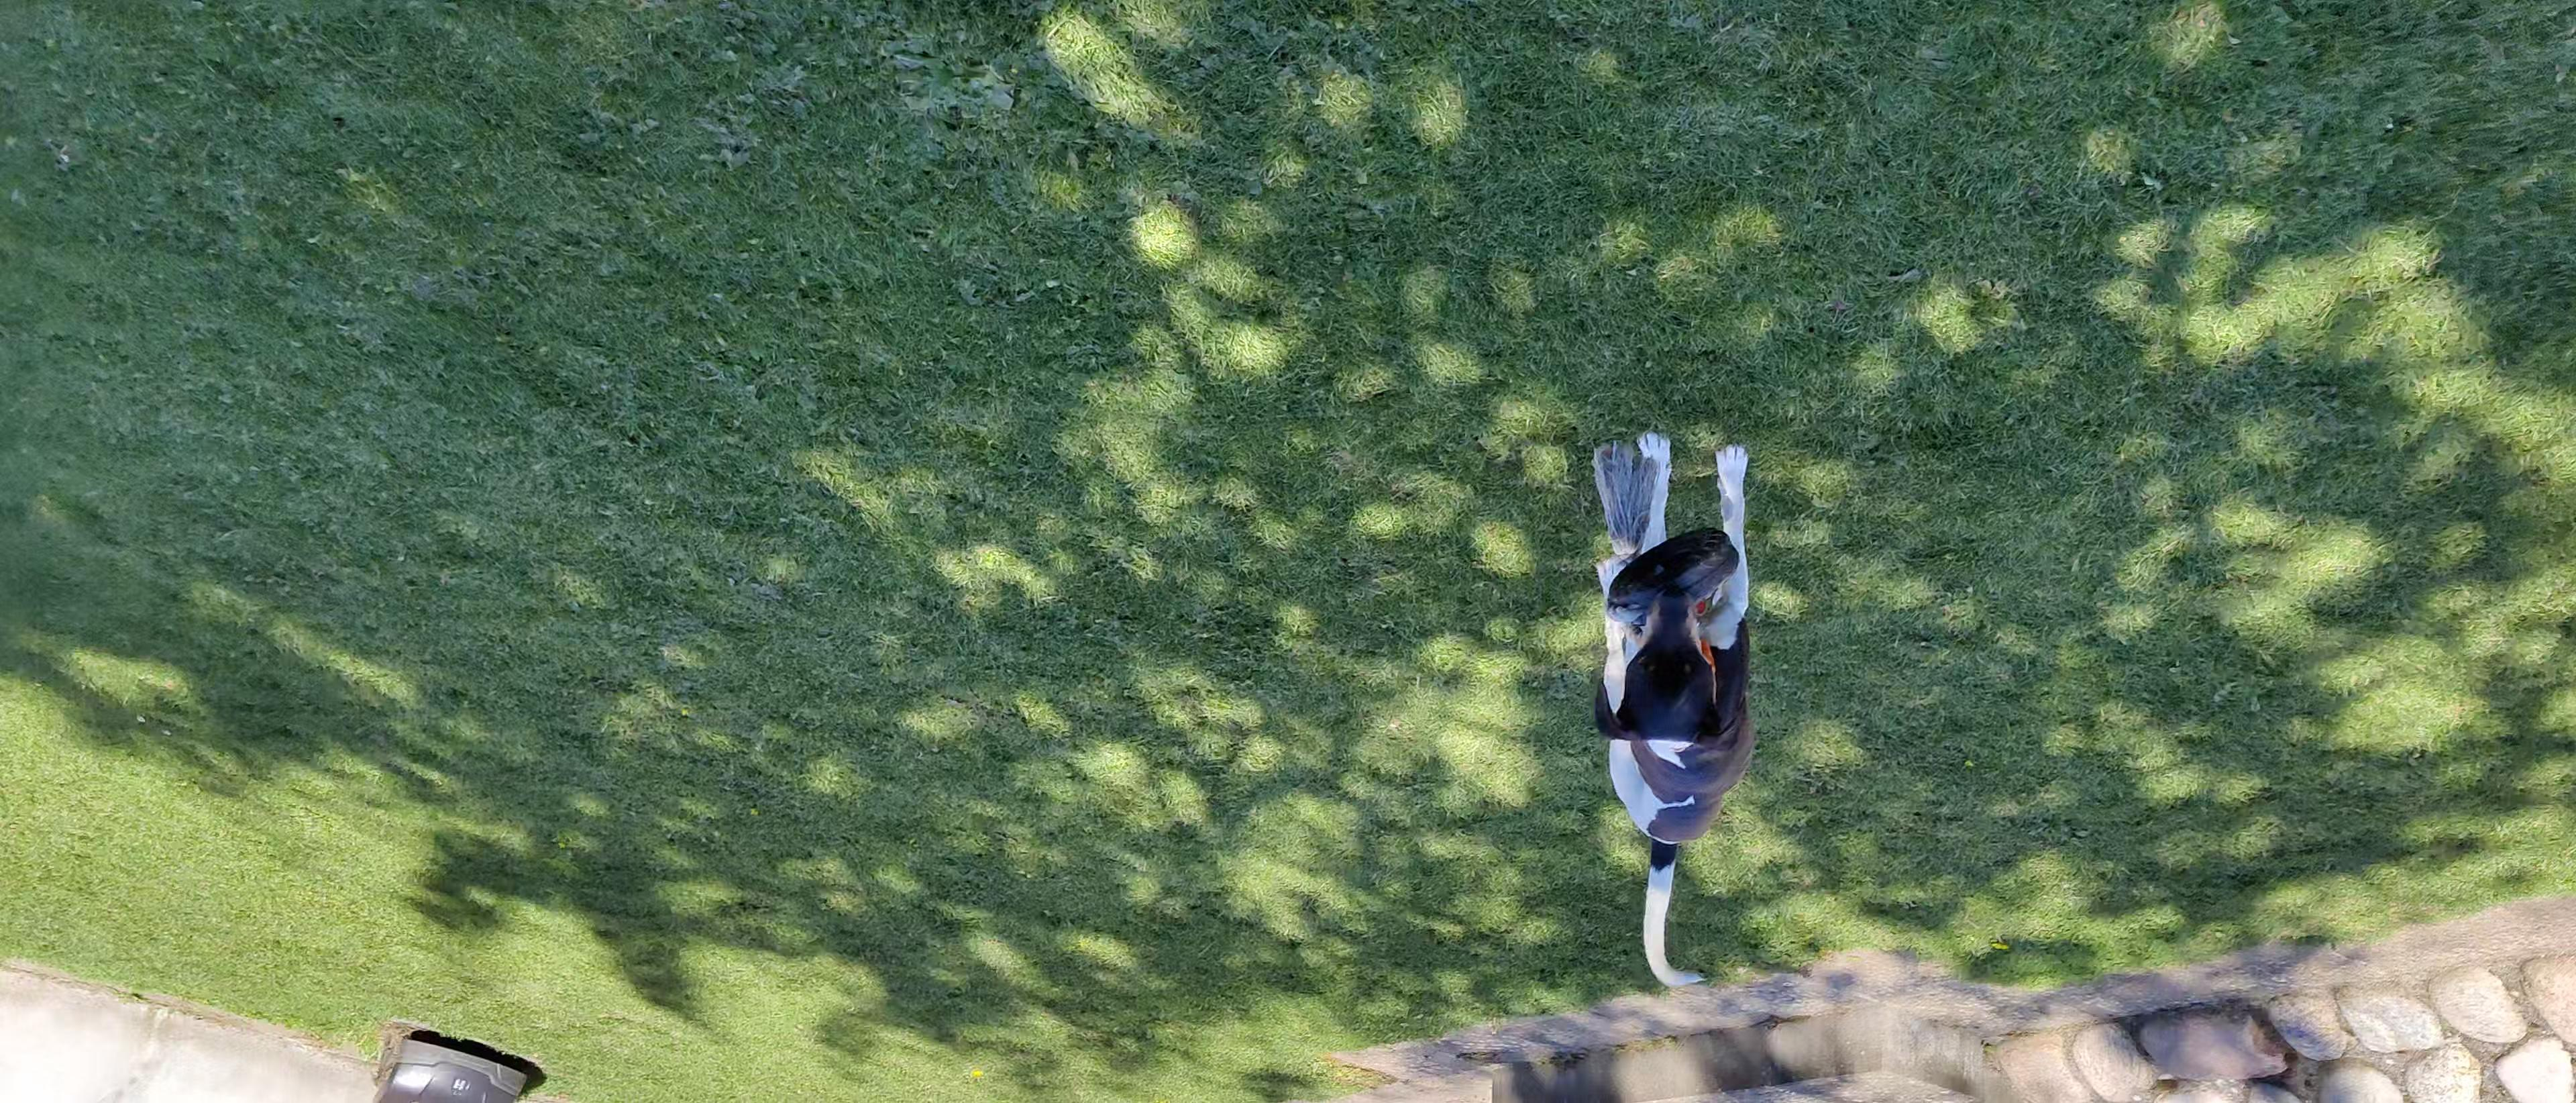Dog: (1585, 424, 1758, 990)
